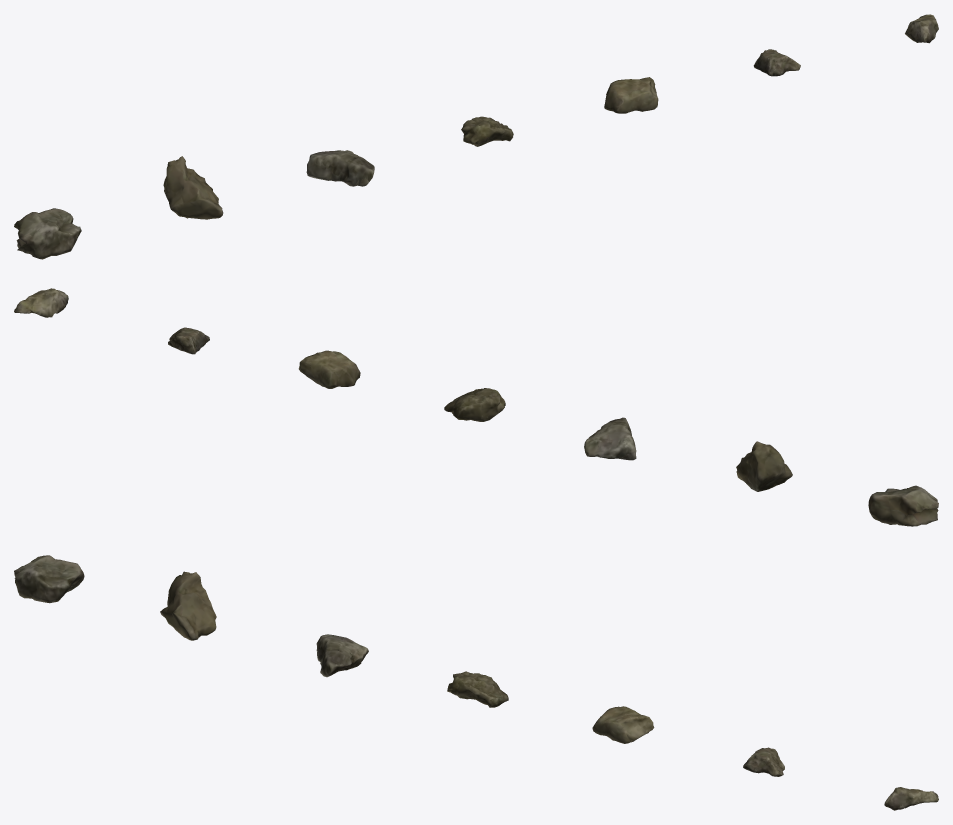
File: rochas.glb
3 renders of one model, top to bottom at view 1: azimuth 30°, elevation 25°; view 2: azimuth 150°, elevation 25°; view 3: azimuth 330°, elevation 25°, orthographic.
Visible parts, largest first — view 1: rock0, rock1, rock2, rock4, rock3, rock5, rock6; view 2: rock0, rock1, rock4, rock2, rock3, rock6, rock5; view 3: rock1, rock0, rock4, rock2, rock3, rock6, rock5.
Part boxes in pixels (left/top/right/bottom): rock0: left=14, top=208, right=81, bottom=259; rock1: left=163, top=156, right=223, bottom=219; rock2: left=306, top=150, right=374, bottom=186; rock4: left=604, top=77, right=658, bottom=113; rock3: left=461, top=116, right=513, bottom=146; rock5: left=753, top=49, right=800, bottom=76; rock6: left=905, top=14, right=938, bottom=43; rock0: left=868, top=485, right=938, bottom=526; rock1: left=736, top=441, right=792, bottom=491; rock4: left=298, top=350, right=360, bottom=388; rock2: left=584, top=417, right=636, bottom=460; rock3: left=444, top=388, right=505, bottom=421; rock6: left=14, top=288, right=68, bottom=317; rock5: left=168, top=327, right=209, bottom=354; rock1: left=160, top=571, right=216, bottom=640; rock0: left=14, top=555, right=84, bottom=603; rock4: left=592, top=706, right=654, bottom=743; rock2: left=316, top=634, right=368, bottom=677; rock3: left=447, top=671, right=508, bottom=707; rock6: left=884, top=787, right=938, bottom=810; rock5: left=743, top=747, right=784, bottom=776.
Bounding box in the file's own units: 7.59 × 0.4088 × 0.5359.
1 material, 1 textured.
